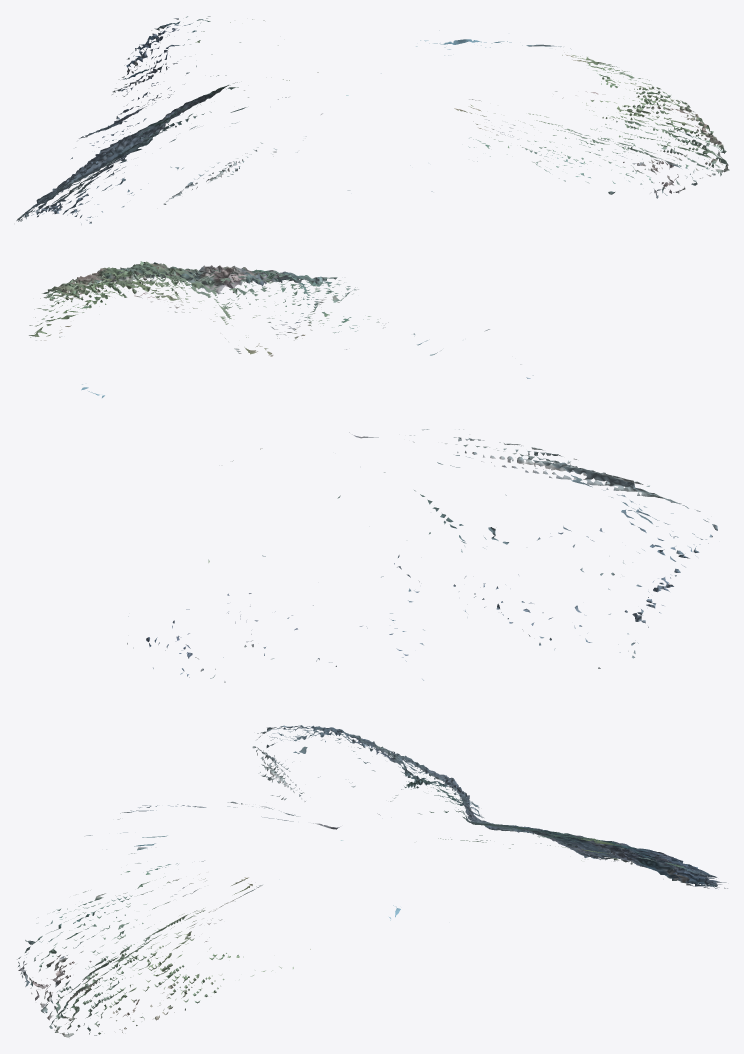
Rendered from 0-world.glb.
The picture shows the model from 3 angles, top to bottom: view 1: azimuth 30°, elevation 25°; view 2: azimuth 150°, elevation 25°; view 3: azimuth 270°, elevation 25°; orthographic projection. The views are drawn at different scales.
Parts seen in each view (by area): view 1: world; view 2: world; view 3: world.
Part boxes in pixels (bbox=[...]): world: bbox=[16, 16, 729, 224]; world: bbox=[29, 261, 717, 682]; world: bbox=[17, 725, 727, 1037].
Bounding box in the file's own units: 95.6 × 16.66 × 92.78.
